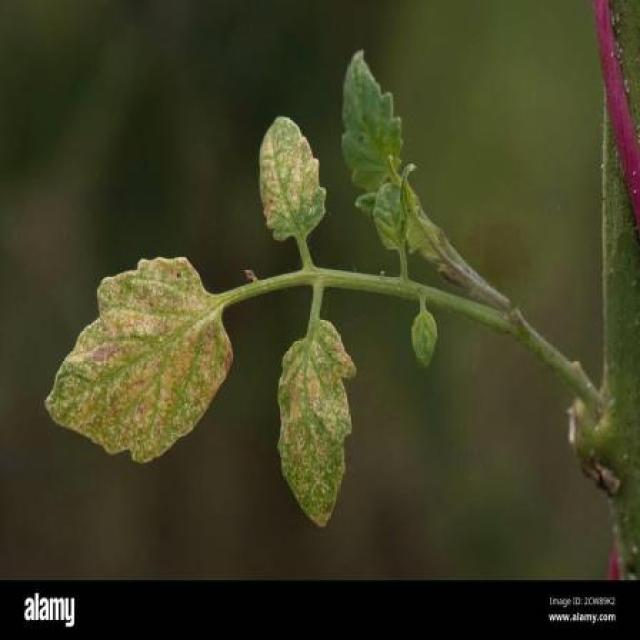Spider Mites: (39, 254, 234, 470), (273, 316, 357, 531), (259, 114, 327, 246)
